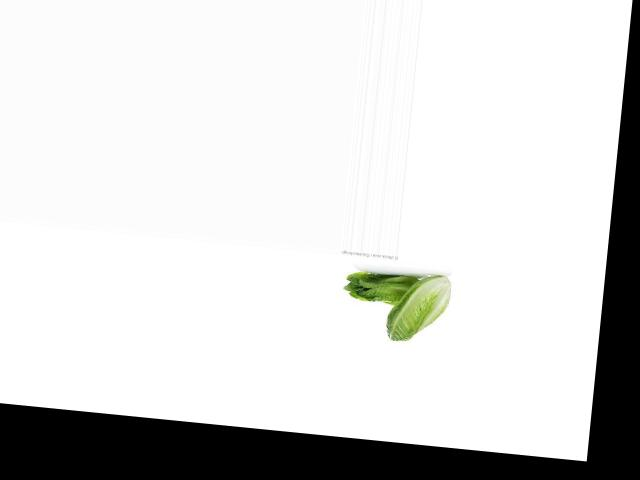lettuce: (342, 259, 420, 314)
